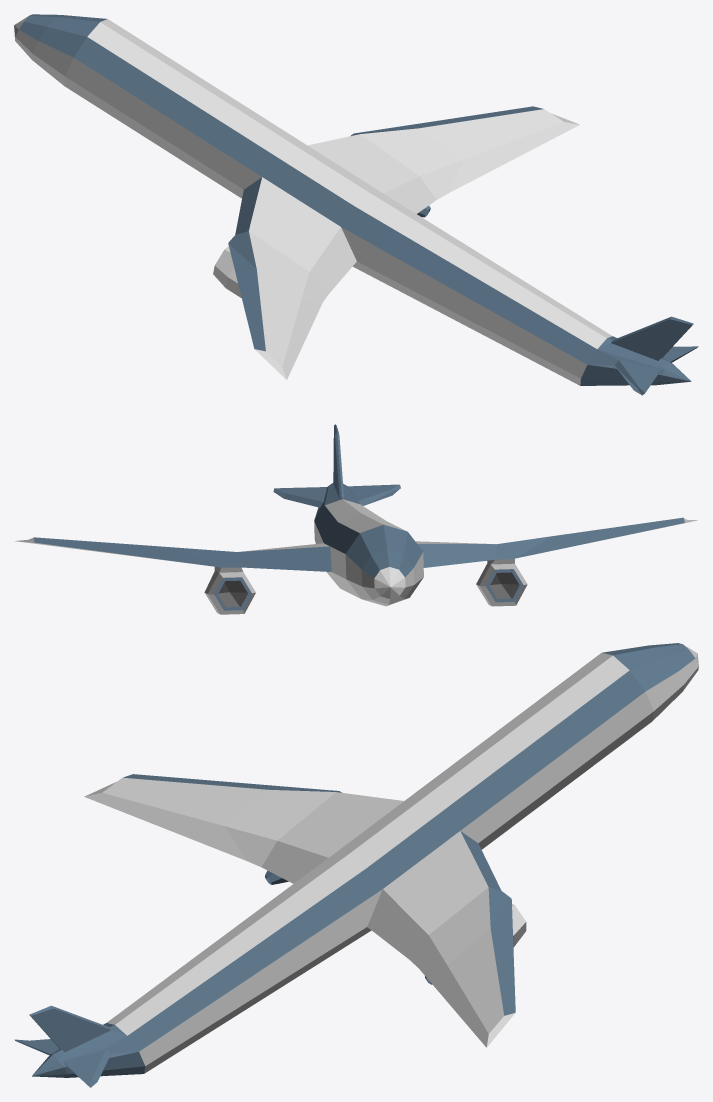
3 views of the same model, one above another, from view 1: azimuth 30°, elevation 25°; view 2: azimuth 150°, elevation 25°; view 3: azimuth 270°, elevation 25° (orthographic). The views are drawn at different scales.
Visible parts, largest first — view 1: plane2.001; view 2: plane2.001; view 3: plane2.001.
Part boxes in pixels (bbox=[...]): plane2.001: bbox=[14, 14, 698, 395]; plane2.001: bbox=[15, 424, 697, 614]; plane2.001: bbox=[14, 643, 698, 1087].
Size of the model in its own units: 262 by 133 by 296.
